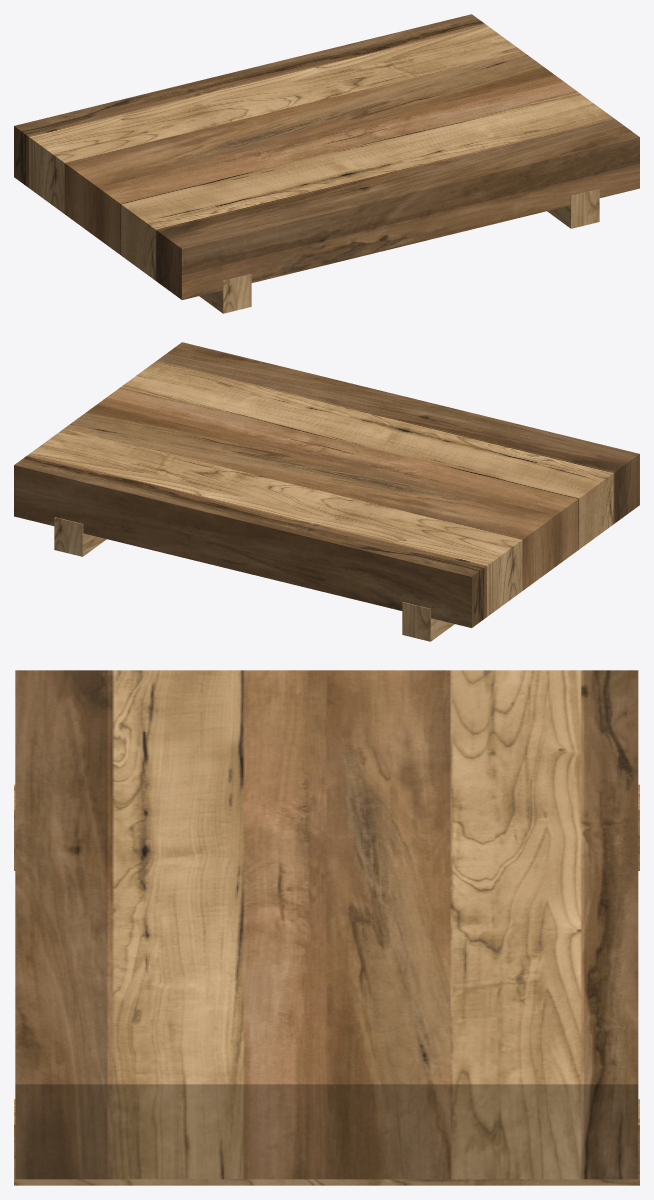
File: _oodplate2.fbx
3 renders of one model, top to bottom at view 1: azimuth 30°, elevation 25°; view 2: azimuth 150°, elevation 25°; view 3: azimuth 270°, elevation 25°, orthographic. The views are drawn at different scales.
Parts seen in each view (by area): view 1: sushi boar; view 2: sushi boar; view 3: sushi boar.
Part boxes in pixels (<box>): sushi boar: <box>14,14,639,313</box>; sushi boar: <box>14,342,639,641</box>; sushi boar: <box>14,670,639,1185</box>.
Size of the model in its own units: 402 by 62.59 by 257.
1 material, 1 textured.
